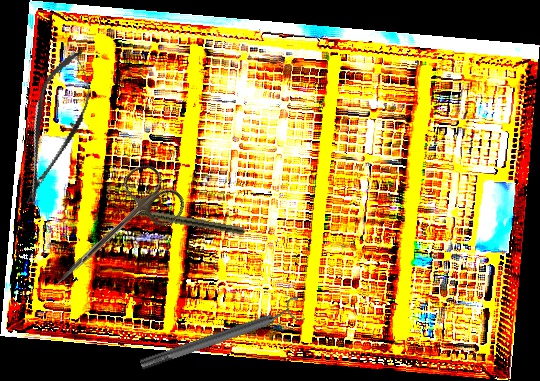Fixation Ring: (136, 295, 306, 377)
Handpiece: (110, 202, 246, 236)
Iris Scissors: (36, 157, 191, 311)
Micro Scissor: (6, 42, 104, 213)
